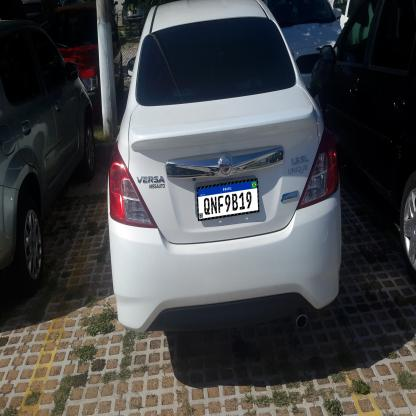PlacaM: (197, 178, 260, 221)
